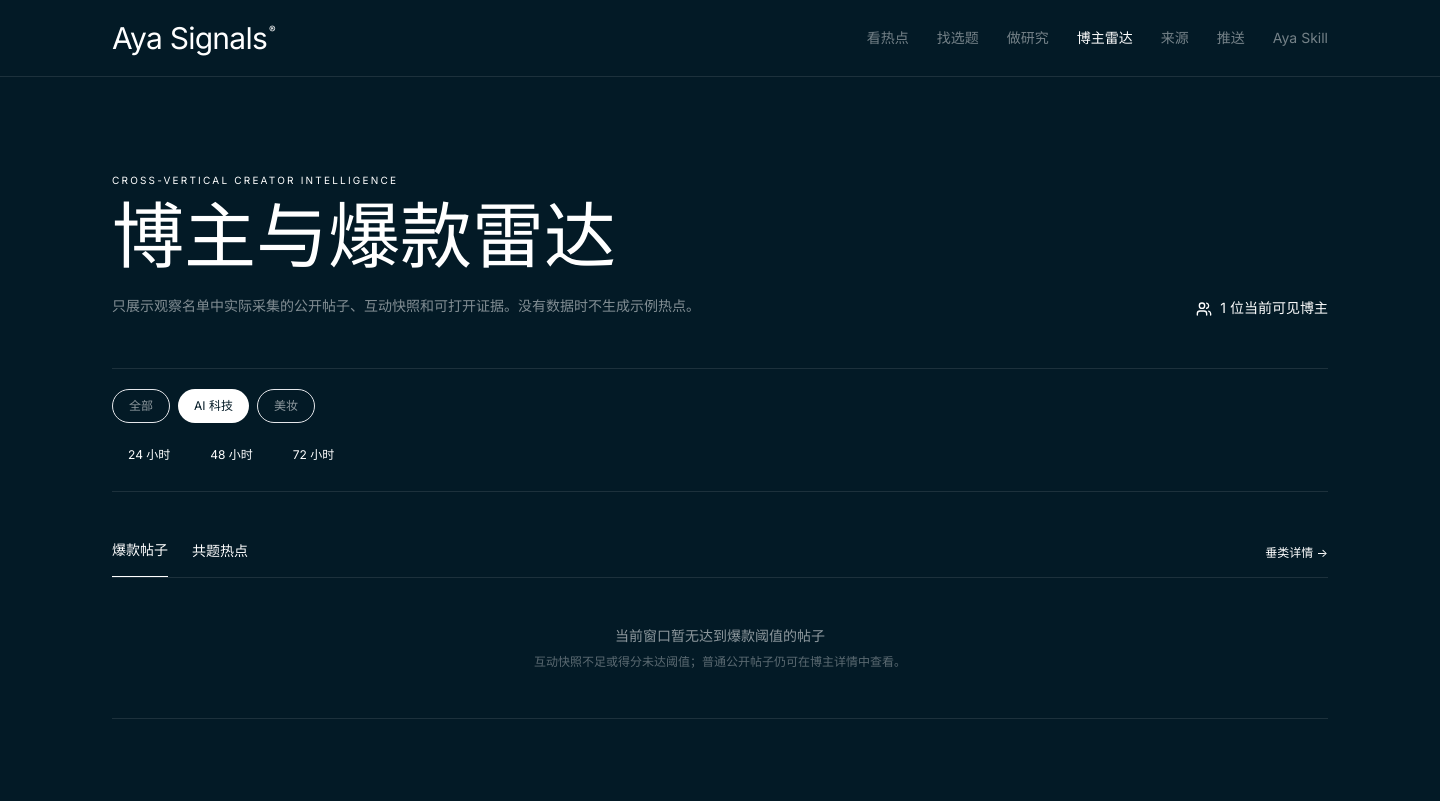
Scenario: Creator Intelligence workspaces › explains when the selected hot or topic tab has no threshold-qualified result
Expected: the text "当前窗口暂无达到爆款阈值的帖子" is shown, [615,627,825,644]
Click the tab "共题热点" at (220, 558), box [192,540,248,577]
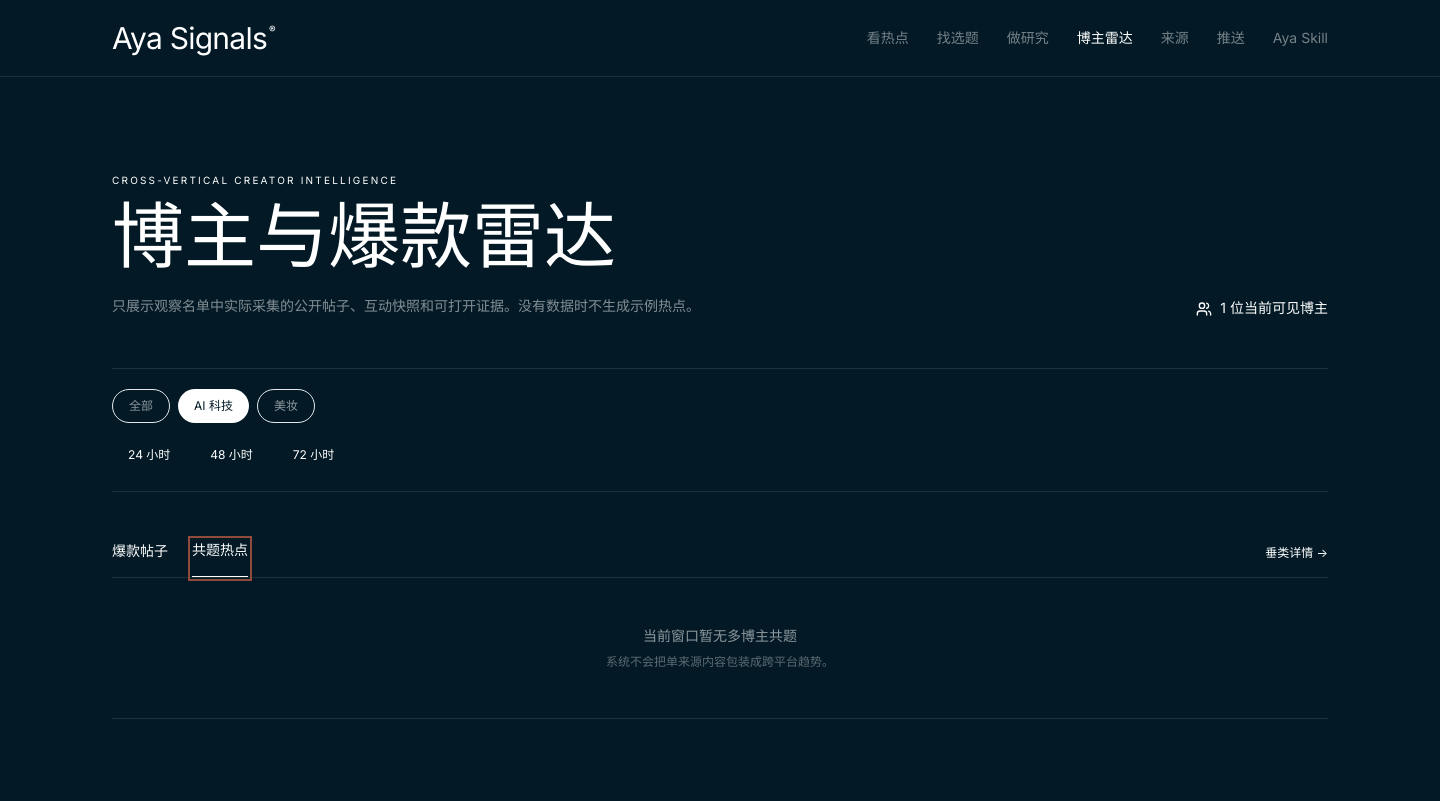
Expected: the text "当前窗口暂无多博主共题" is shown, [643,627,797,644]
